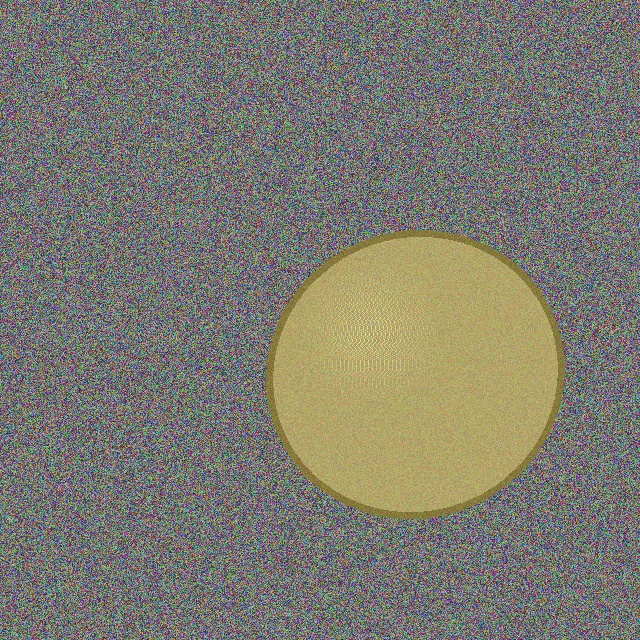lens: (270, 233, 560, 515)
